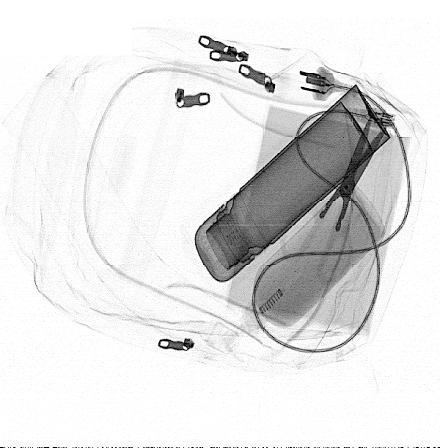Scissors: (280, 114, 388, 286)
